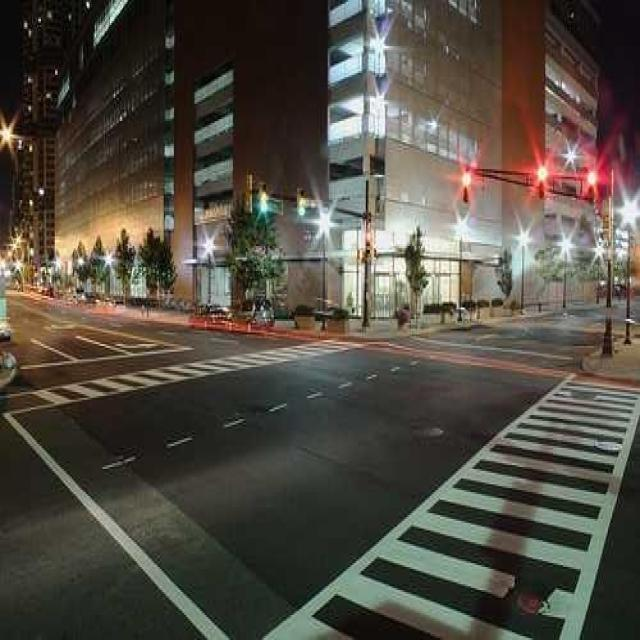Traffic Light -Red-: (461, 169, 474, 208), (536, 165, 548, 202)
